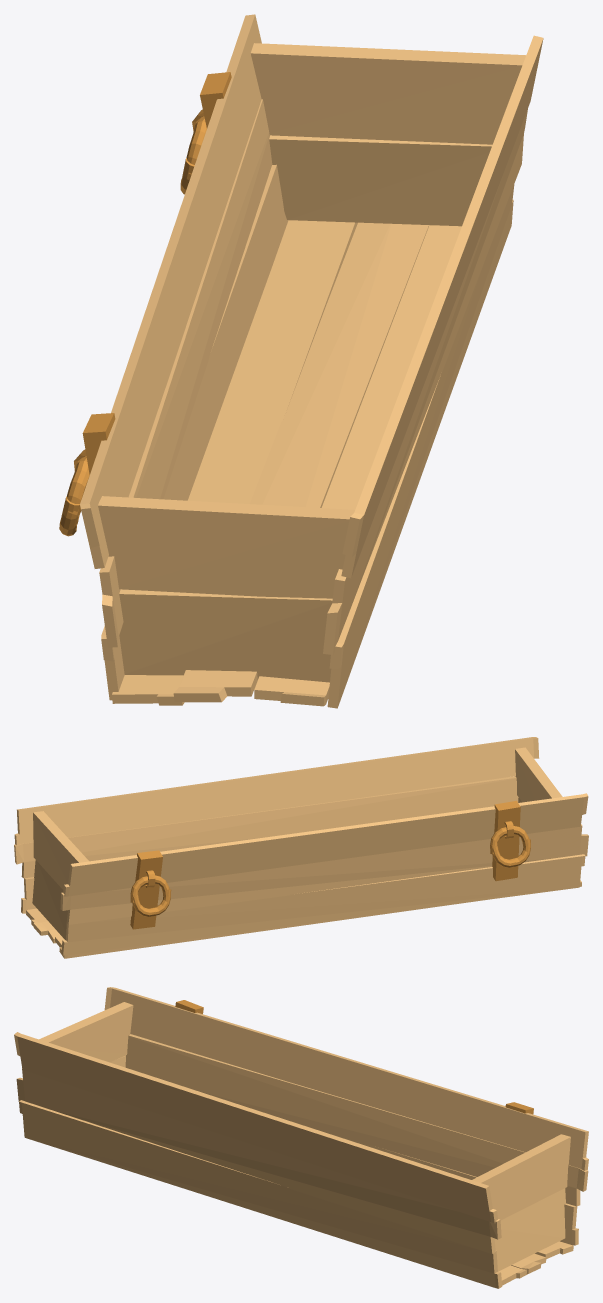
The model's file is WateringTrough.glb.
3 views of the same model, one above another, from view 1: azimuth 30°, elevation 25°; view 2: azimuth 150°, elevation 25°; view 3: azimuth 270°, elevation 25° (orthographic). The views are drawn at different scales.
Visible parts, largest first — view 1: group2133846589, group272399213, group977002837, group474279194, group354396859, group526615061, group170484009; view 2: group272399213, group354396859, group977002837, group526615061, group170484009, group2133846589, group474279194; view 3: group354396859, group272399213, group977002837, group474279194, group2133846589.
Part boxes in pixels (<box>): group2133846589: <box>112,220,461,706</box>; group272399213: <box>80,14,288,700</box>; group977002837: <box>250,43,525,226</box>; group474279194: <box>98,496,354,682</box>; group354396859: <box>323,35,543,708</box>; group526615061: <box>59,413,115,536</box>; group170484009: <box>180,72,231,194</box>; group272399213: <box>60,793,588,955</box>; group354396859: <box>14,737,539,913</box>; group977002837: <box>32,811,88,940</box>; group526615061: <box>490,800,530,881</box>; group170484009: <box>130,850,171,929</box>; group2133846589: <box>26,880,581,958</box>; group474279194: <box>515,747,562,802</box>; group354396859: <box>14,1032,502,1288</box>; group272399213: <box>104,987,588,1245</box>; group977002837: <box>472,1134,570,1271</box>; group474279194: <box>39,1002,133,1067</box>; group2133846589: <box>498,1241,573,1285</box>.
Size of the model in its own units: 1.66 by 0.4468 by 1.86.
